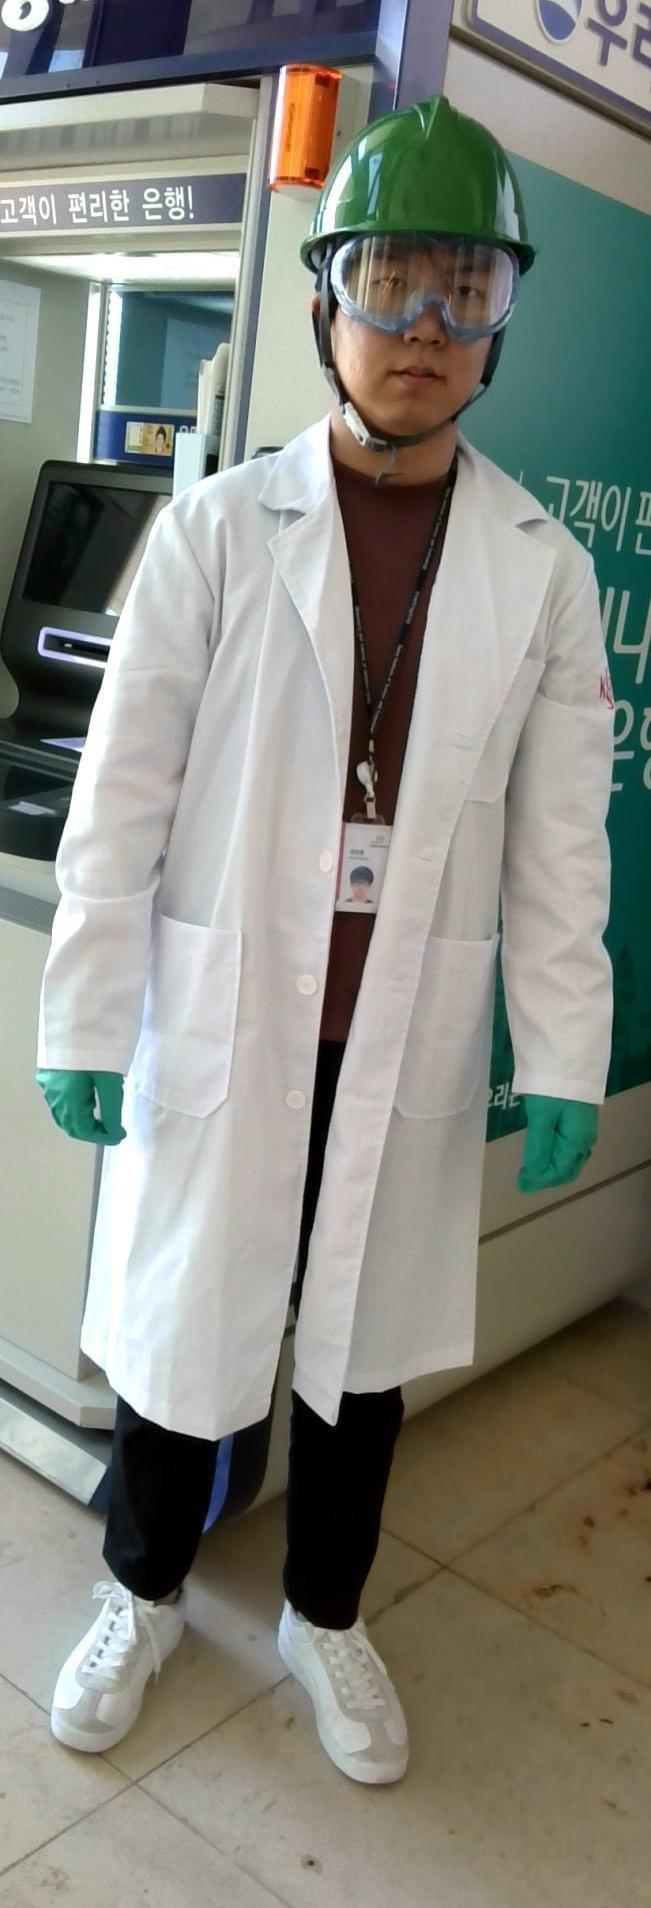lab_coat: (144, 486, 520, 1340)
